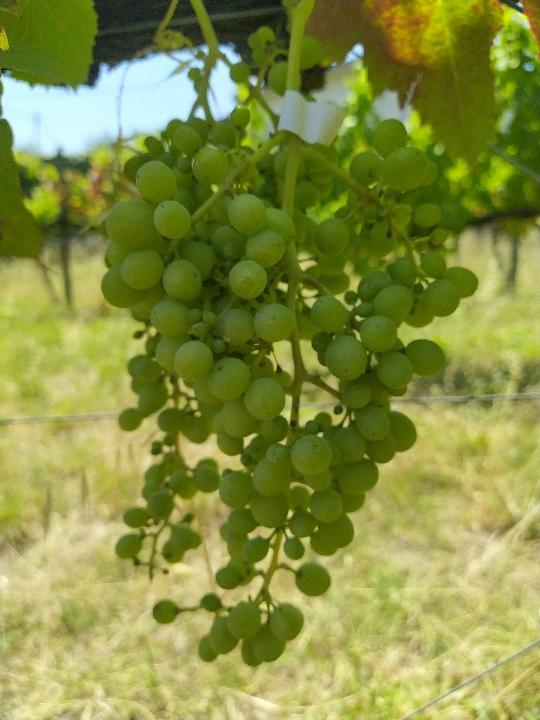grape: (98, 109, 482, 672)
